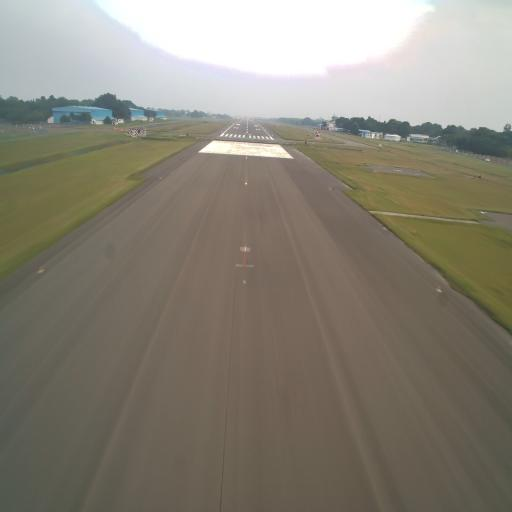off: (37, 264, 46, 278), (434, 284, 442, 298), (241, 276, 248, 288)
on: (243, 241, 248, 252)
